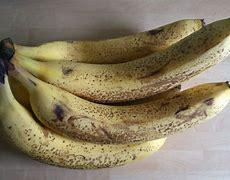banana: (0, 7, 230, 162)
